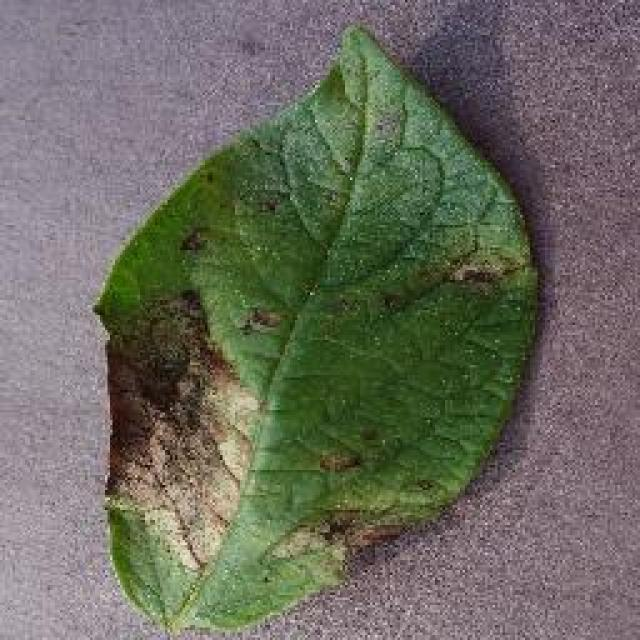late_blight: (90, 20, 545, 638)
